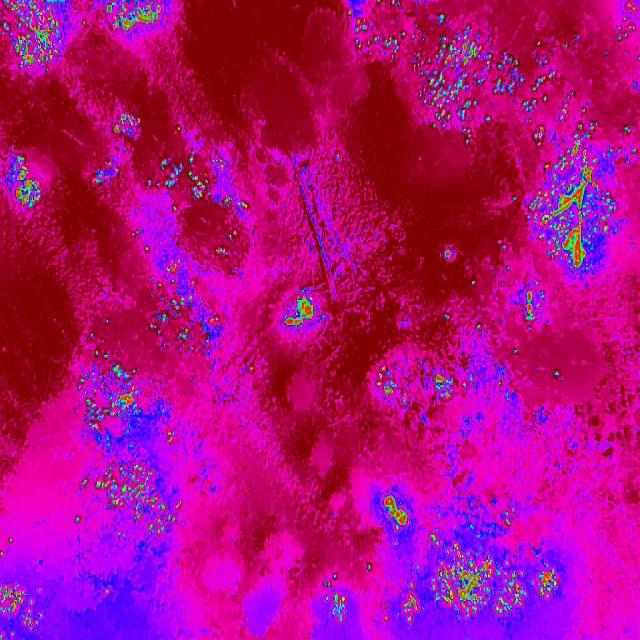fire: (333, 0, 640, 149), (68, 345, 198, 549), (316, 528, 564, 634), (512, 126, 624, 282), (1, 0, 170, 70), (91, 158, 260, 224), (133, 239, 230, 353), (370, 353, 458, 419), (0, 568, 46, 640), (275, 290, 329, 346), (0, 150, 44, 215), (372, 478, 414, 537), (100, 109, 152, 139), (518, 284, 549, 328)
